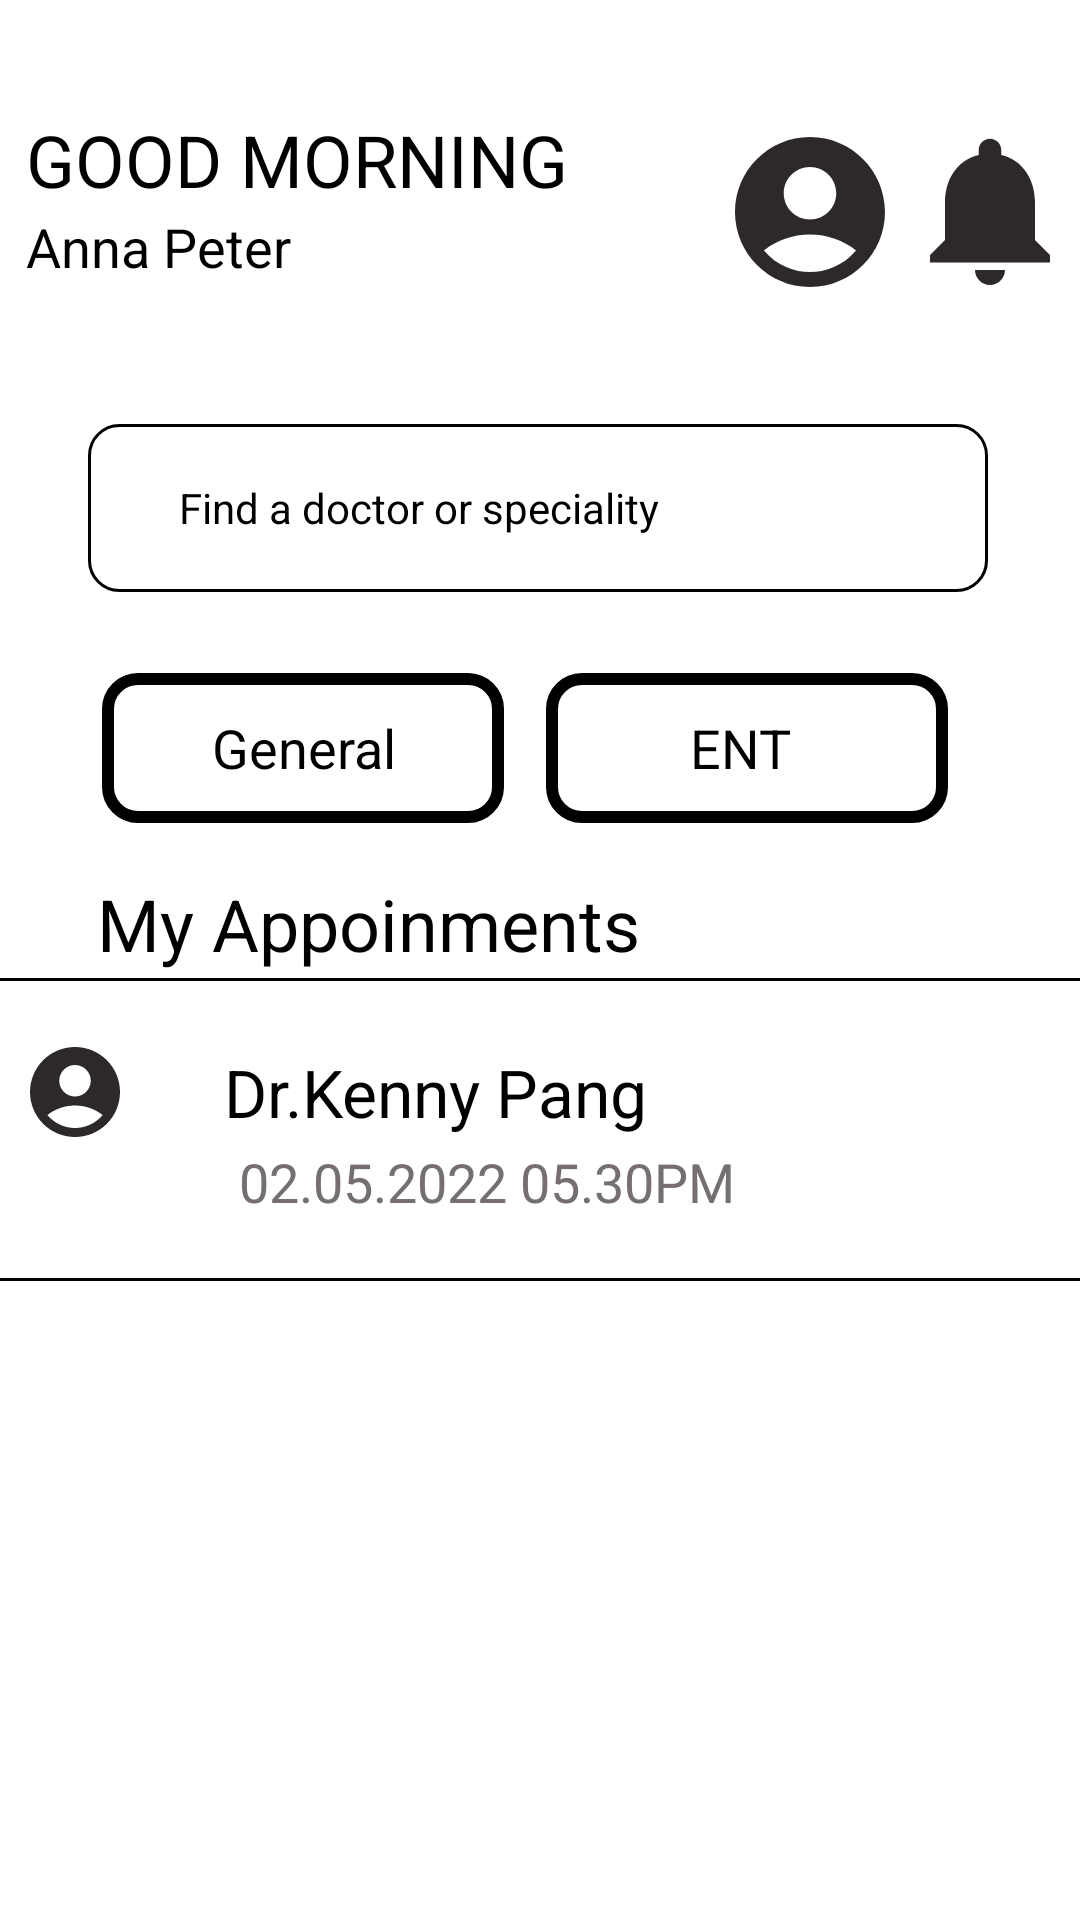

Named icons in this screenshot (1080px×1920px) and their bounding boxes, (x1, y1, x2, y2):
notifications: (930, 138, 1050, 285)
